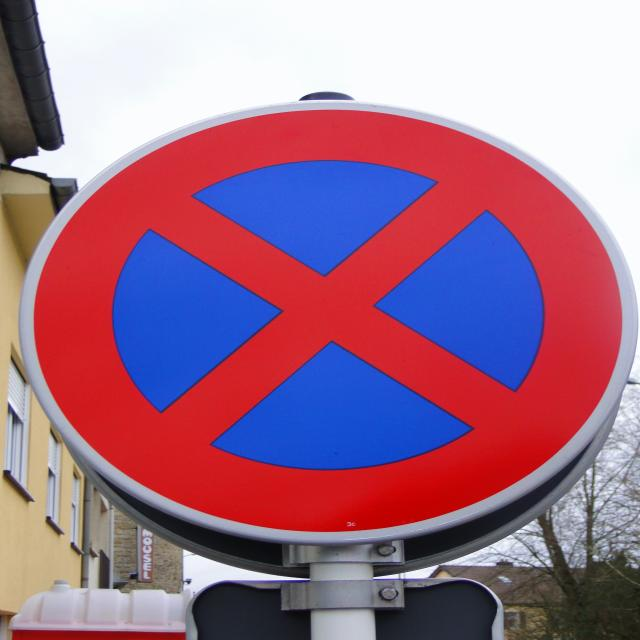no stopping: (16, 96, 640, 562)
